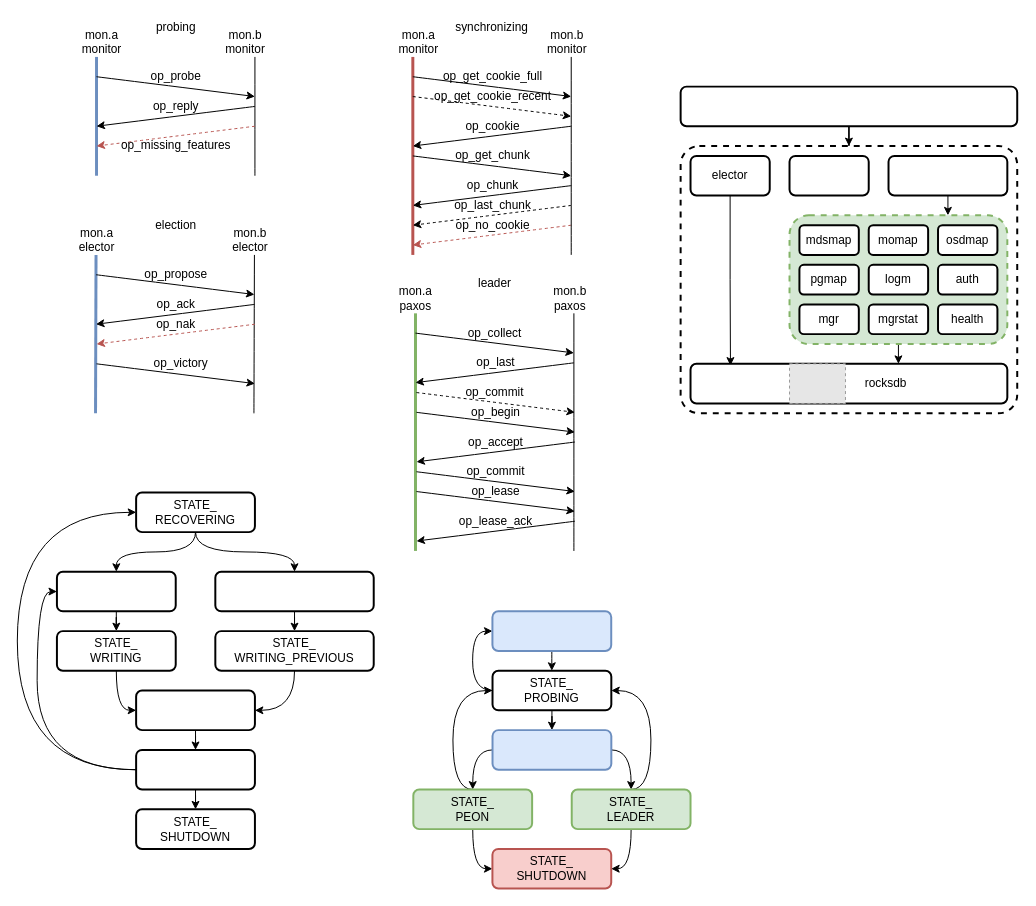
This 1036x906 diagram has some shape labels left out. Grey dashed boxes stand in for pictures. The box of each missing label's shape, as (x1, y1, x2, y2) in pixels:
messenger: (679, 85, 1018, 127)
multi_paxos: (887, 154, 1008, 196)
sock: (788, 154, 869, 196)
STATE_ ACTIVE: (135, 748, 255, 790)
STATE_ ELECTING: (491, 729, 612, 770)
STATE_ REFRESH: (135, 689, 255, 731)
STATE_ SYNCHRONIZING: (491, 610, 612, 651)
STATE_ UPDATING: (55, 570, 176, 612)
STATE_ UPDATING_PREVIOUS: (214, 570, 374, 612)
